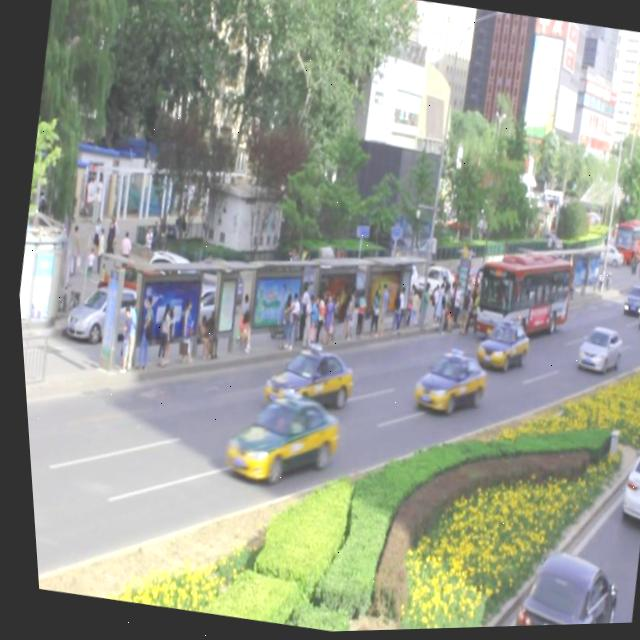car: (213, 384, 338, 496), (254, 338, 351, 418), (401, 344, 485, 422), (466, 316, 528, 380), (565, 322, 622, 379), (628, 296, 640, 337)
van: (460, 241, 573, 353)
